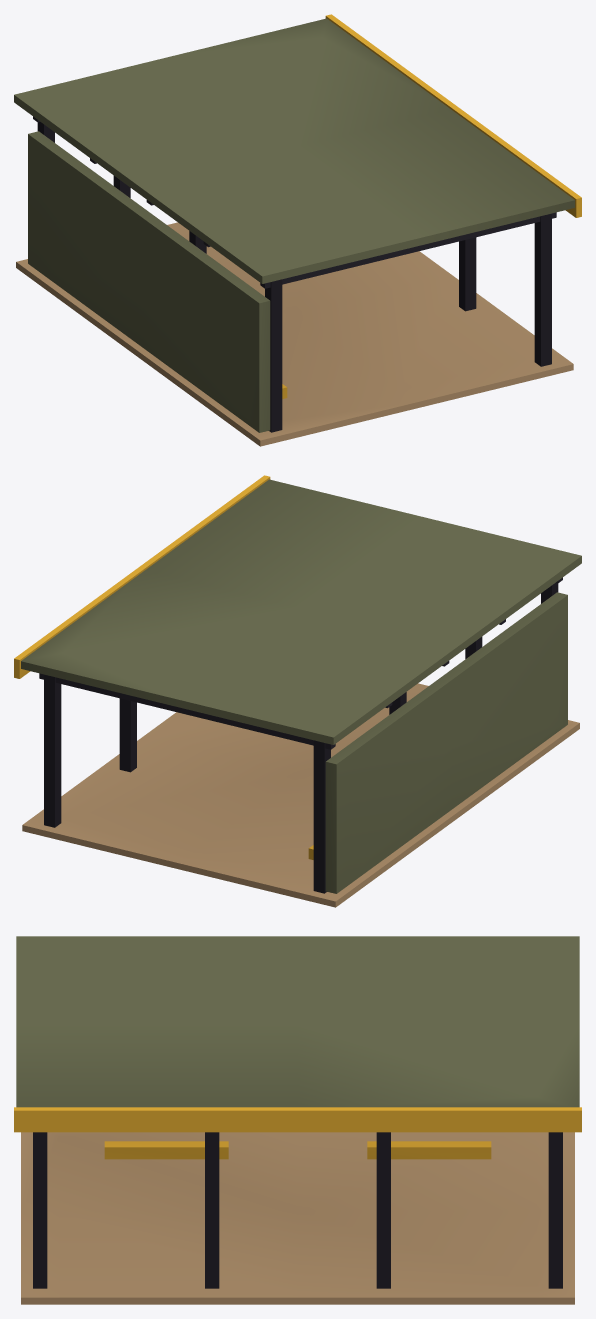
The model's file is bld.cure-motor-shelter.lod1.glb.
The picture shows the model from 3 angles, top to bottom: view 1: azimuth 30°, elevation 25°; view 2: azimuth 150°, elevation 25°; view 3: azimuth 270°, elevation 25°; orthographic projection. The views are drawn at different scales.
Parts seen in each view (by area): view 1: body; view 2: body; view 3: body.
Boxes of the visible parts, bbox=[...] form: body: bbox=[14, 14, 581, 446]; body: bbox=[14, 475, 581, 907]; body: bbox=[14, 936, 581, 1304].
Size of the model in its own units: 8.74 by 4.55 by 11.9.
